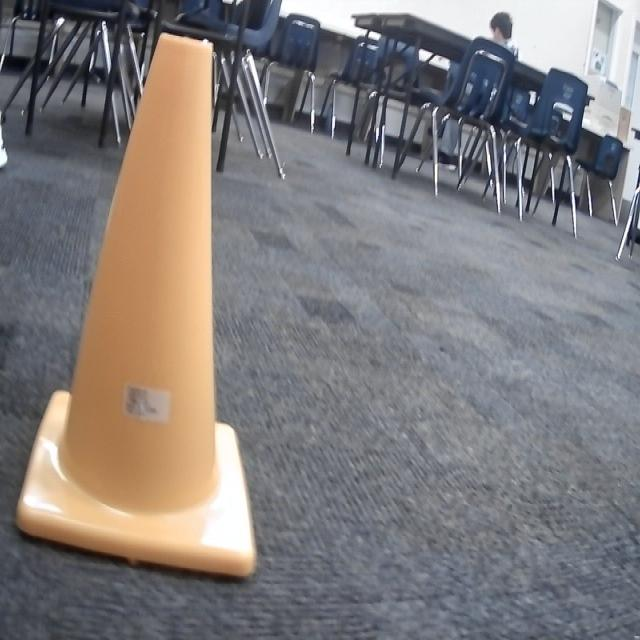cone: (14, 28, 260, 581)
